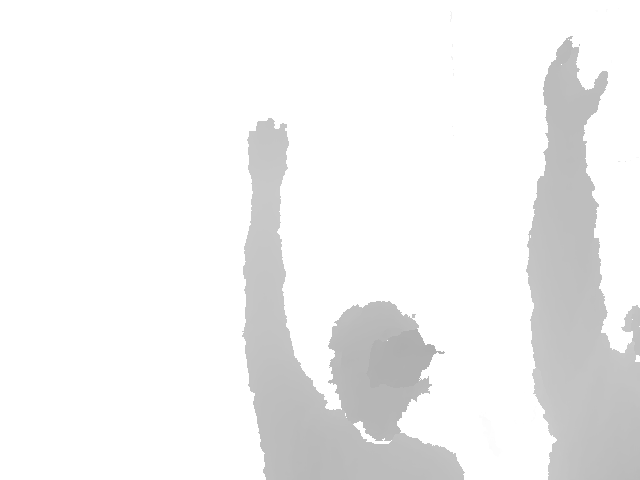hand: (542, 34, 607, 132), (245, 116, 289, 190)
head: (326, 297, 432, 436)
person: (242, 117, 463, 480), (524, 35, 640, 480)
